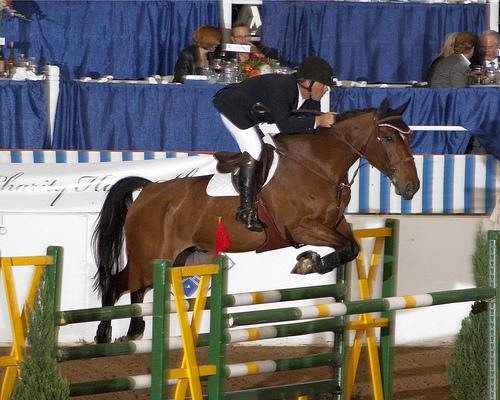person: (214, 57, 341, 230)
